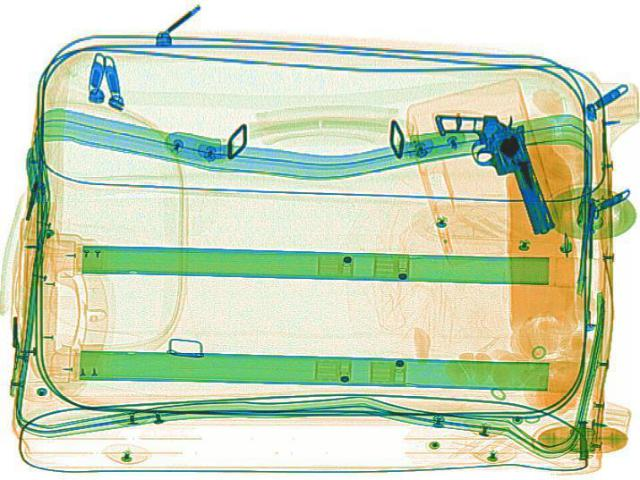Gun: (428, 98, 568, 244)
